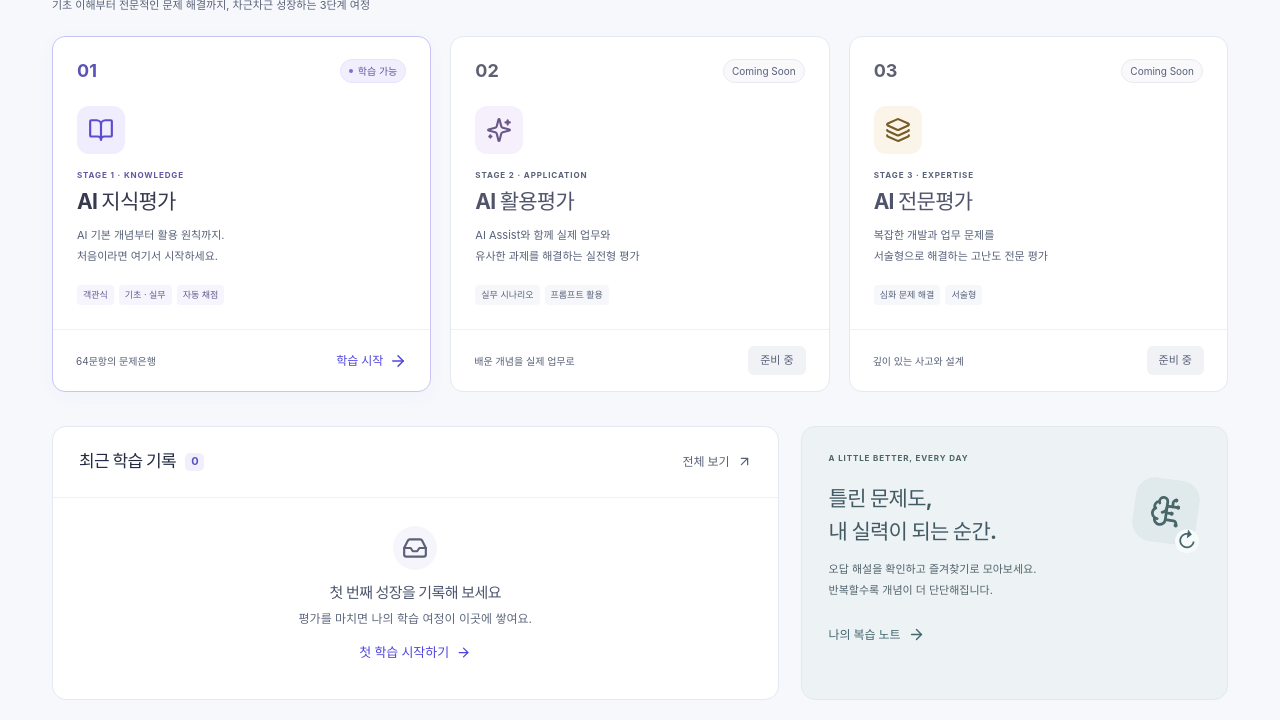
Test: AI Literacy Lab user journeys › offers the working knowledge stage and clearly disables the two future stages
(page scrolled)
Expected: the heading "AI 지식평가" is shown, x1=77 y1=188 x2=176 y2=214
Expected: the heading "AI 활용평가" is shown, x1=475 y1=188 x2=574 y2=214
Click the link "학습 시작".
click(372, 361)  # box x1=336 y1=352 x2=407 y2=370
(page scrolled)
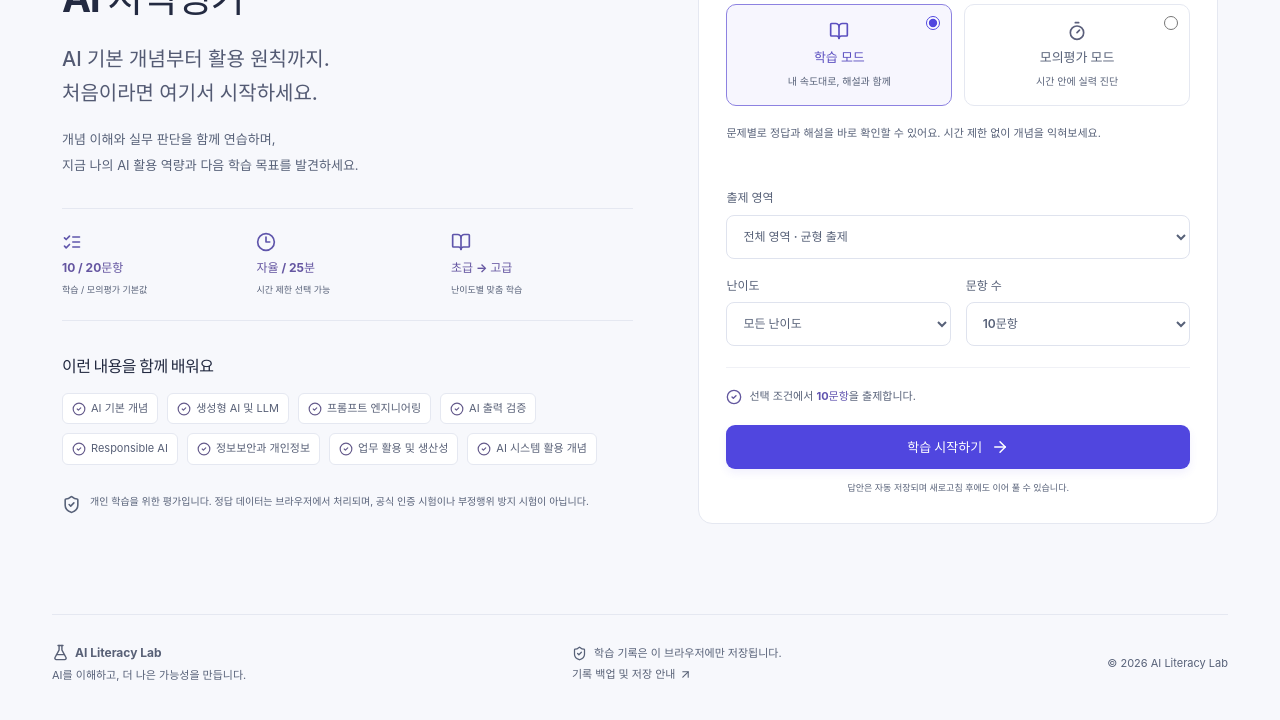
Expected: the radio button labelled "학습 모드" is checked, x1=926 y1=16 x2=940 y2=30
